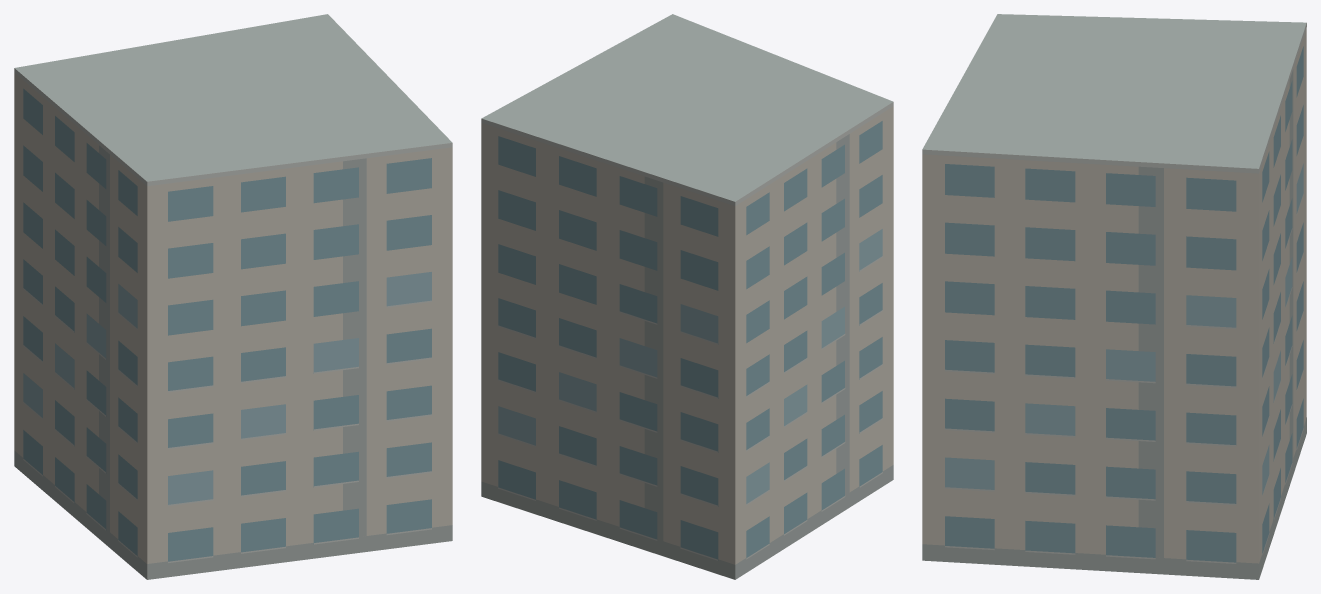
The model's file is survey-upis-32641039.glb.
3 renders of one model, left to right at view 1: azimuth 30°, elevation 25°; view 2: azimuth 150°, elevation 25°; view 3: azimuth 270°, elevation 25°, orthographic. The views are drawn at different scales.
Visible parts, largest first — view 1: survey-upis-32641039.tmp; view 2: survey-upis-32641039.tmp; view 3: survey-upis-32641039.tmp.
Part boxes in pixels (x1=…): survey-upis-32641039.tmp: x1=14, y1=14, x2=452, y2=579; survey-upis-32641039.tmp: x1=481, y1=14, x2=893, y2=579; survey-upis-32641039.tmp: x1=922, y1=14, x2=1306, y2=579.
Size of the model in its own units: 17.27 by 21.35 by 18.11.
